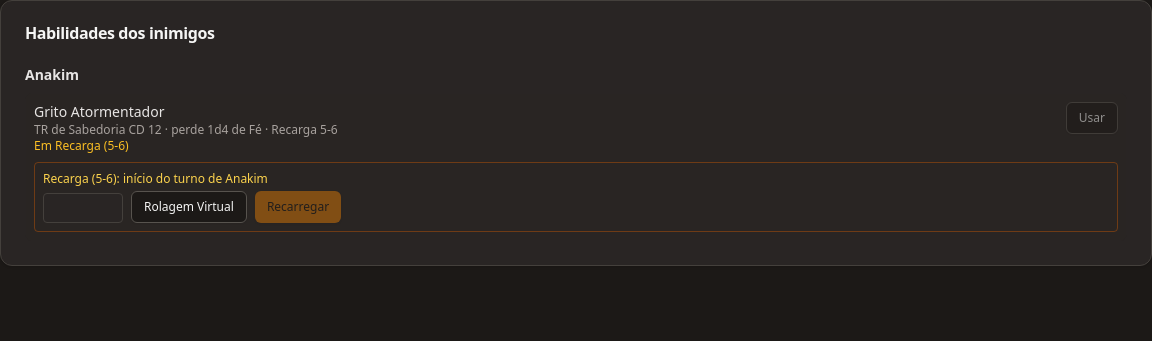
Test: EnemyAbilityPanel: uso por combate e Recarga › o d6 com 4 mantém a Recarga e diz que continua em recarga
The width and height of the screenshot is (1152, 341).
Type "4" into the number field named "d6 da Recarga de Grito Atormentador (Anakim)" at coordinates (83, 208), box left=43, top=193, right=123, bottom=223
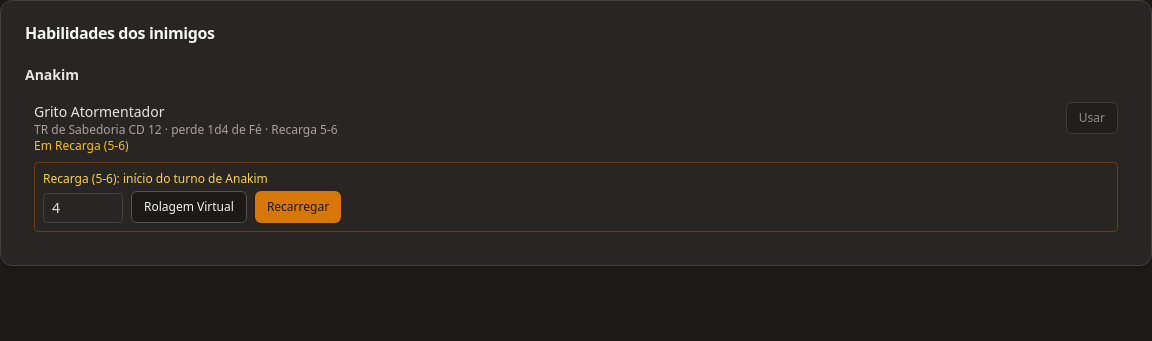
Click the button with aria-label "Recarregar Grito Atormentador (Anakim)" at coordinates (298, 207), box left=255, top=191, right=341, bottom=223
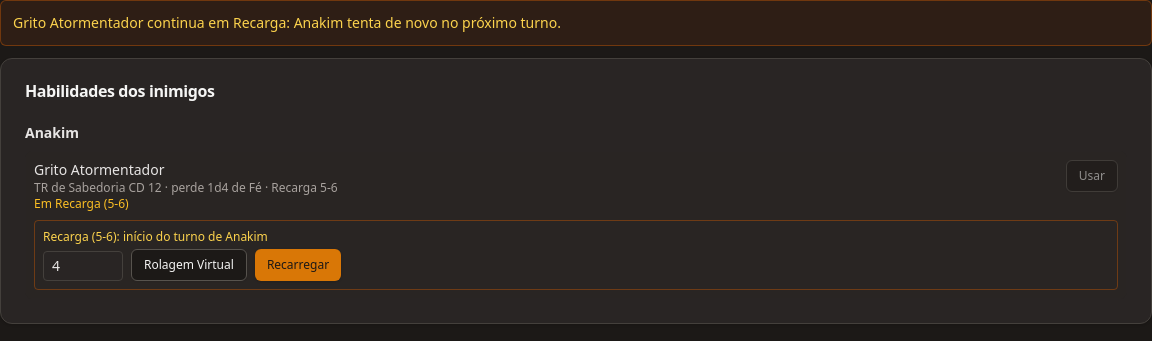
Expected: the message shows "continua em Recarga", left=13, top=13, right=561, bottom=32
